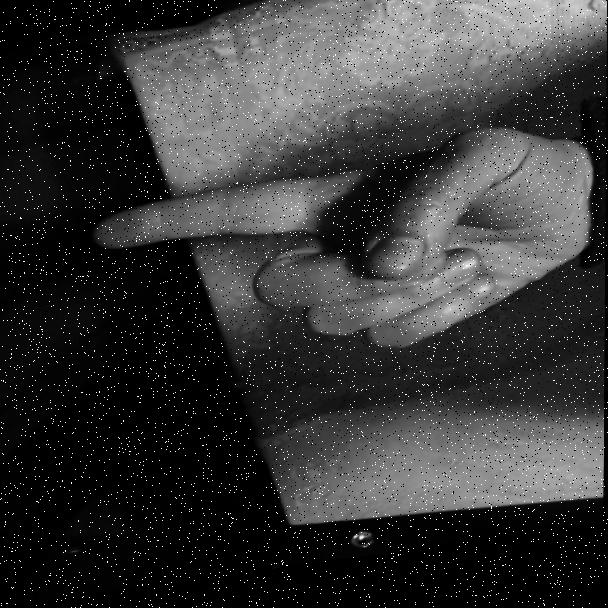one: (79, 133, 587, 400)
